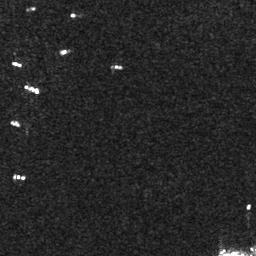ship: (24, 83, 39, 96), (110, 62, 123, 71), (11, 60, 23, 68), (10, 119, 20, 127), (12, 174, 25, 180), (60, 47, 68, 56), (24, 5, 36, 11)
